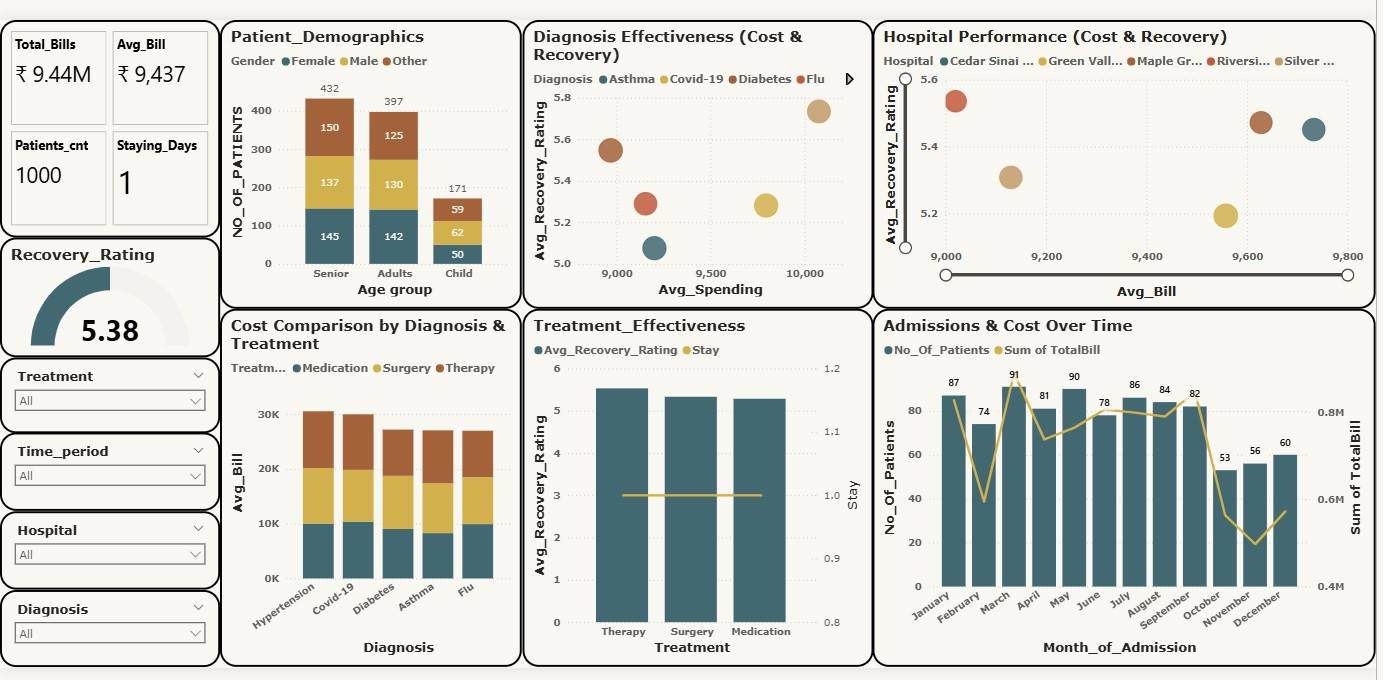

What the dashboard file says about the page in this screenshot:
{"tool":"powerbi","page":{"name":"Dashboad","canvas":[1700,800],"ordinal":1},"visuals":[{"type":"gauge","fields":{"Y":["Avg(hospital.RecoveryRating)"]},"box":[0,268.7,272.4,148.1],"z":0},{"type":"slicer","fields":{"Values":["hospital.Hospital"]},"box":[0,606.9,272.4,96.9],"z":1000},{"type":"columnChart","title":"Patient_Demographics","fields":{"Category":["patient.Age group"],"Y":["Count(patient.PatientID)"],"Series":["patient.Gender"]},"box":[272.4,0,372.9,356.5],"z":2000},{"type":"lineStackedColumnComboChart","title":"Cost Comparison by Diagnosis & Treatment","fields":{"Y":["Avg(patient.TotalBill)"],"Series":["patient.Treatment"],"Category":["patient.Diagnosis"]},"box":[272.4,356.5,372.9,442.4],"z":3000},{"type":"scatterChart","title":"Diagnosis Effectiveness (Cost & Recovery)","fields":{"X":["Avg(patient.TotalBill)"],"Y":["Avg(hospital.RecoveryRating)"],"Size":["CountNonNull(patient.PatientID)"],"Series":["patient.Diagnosis"]},"box":[645.3,0,433.2,356.5],"z":4000},{"type":"slicer","fields":{"Values":["patient.Treatment"]},"box":[0,416.8,272.4,93.2],"z":5000},{"type":"slicer","fields":{"Values":["patient.Diagnosis"]},"box":[0,703.8,272.4,95.1],"z":6000},{"type":"lineStackedColumnComboChart","title":"Admissions & Cost Over Time","fields":{"Category":["merged.Month_of_Admission"],"Y":["Count(patient.PatientID)"],"Y2":["Sum(patient.TotalBill)"]},"box":[1078.5,356.5,621.5,442.4],"z":7000},{"type":"slicer","fields":{"Values":["patient.AdmissionDate.Variation.Date Hierarchy.Year","patient.AdmissionDate.Variation.Date Hierarchy.Quarter","patient.AdmissionDate.Variation.Date Hierarchy.Month","patient.AdmissionDate.Variation.Date Hierarchy.Day"]},"box":[0,510,272.4,96.9],"z":8000},{"type":"scatterChart","title":"Hospital Performance (Cost & Recovery)","fields":{"X":["Avg(patient.TotalBill)"],"Y":["Avg(hospital.RecoveryRating)"],"Series":["hospital.Hospital"],"Size":["Count(hospital.PatientID)"]},"box":[1078.5,0,621.5,356.5],"z":9000},{"type":"lineStackedColumnComboChart","title":"Treatment_Effectiveness","fields":{"Category":["patient.Treatment"],"Y":["Avg(hospital.RecoveryRating)"],"Y2":["Avg(patient.LengthOfStay)"]},"box":[645.3,356.5,433.2,442.4],"z":10000},{"type":"cardVisual","fields":{"Data":["Sum(patient.TotalBill)","Avg(patient.TotalBill)","Count(patient.PatientID)","Avg(patient.LengthOfStay)"]},"box":[0,0,272.4,268.7],"z":11000}]}

Visuals, with their boxes in screenshot pixels (x1, y1, x2, y2):
gauge - Avg(hospital.RecoveryRating): BBox(0, 237, 219, 356)
slicer - hospital.Hospital: BBox(0, 509, 219, 586)
"Patient_Demographics" columnChart: BBox(219, 22, 518, 308)
"Cost Comparison by Diagnosis & Treatment" lineStackedColumnComboChart: BBox(219, 308, 518, 663)
"Diagnosis Effectiveness (Cost & Recovery)" scatterChart: BBox(518, 22, 865, 308)
slicer - patient.Treatment: BBox(0, 356, 219, 431)
slicer - patient.Diagnosis: BBox(0, 586, 219, 663)
"Admissions & Cost Over Time" lineStackedColumnComboChart: BBox(865, 308, 1364, 663)
slicer - patient.AdmissionDate.Variation.Date Hierarchy.Year x patient.AdmissionDate.Variation.Date Hierarchy.Quarter: BBox(0, 431, 219, 509)
"Hospital Performance (Cost & Recovery)" scatterChart: BBox(865, 22, 1364, 308)
"Treatment_Effectiveness" lineStackedColumnComboChart: BBox(518, 308, 865, 663)
cardVisual - Sum(patient.TotalBill) x Avg(patient.TotalBill): BBox(0, 22, 219, 237)
